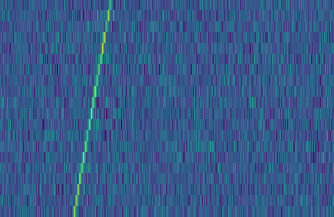signal: (67, 0, 114, 217)
